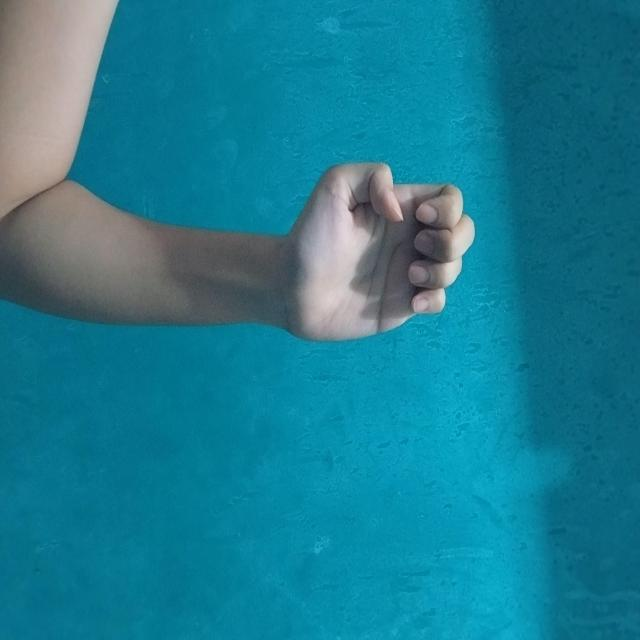E: (154, 160, 347, 357)
